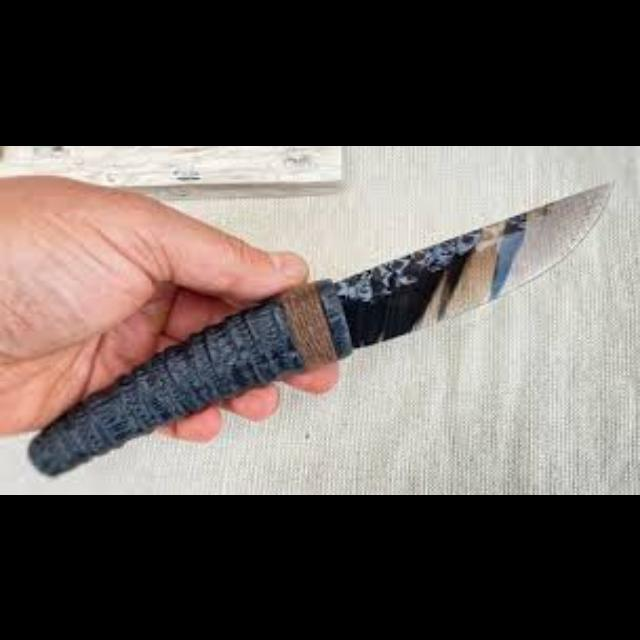Knife: (25, 179, 612, 475), (341, 183, 613, 339)
